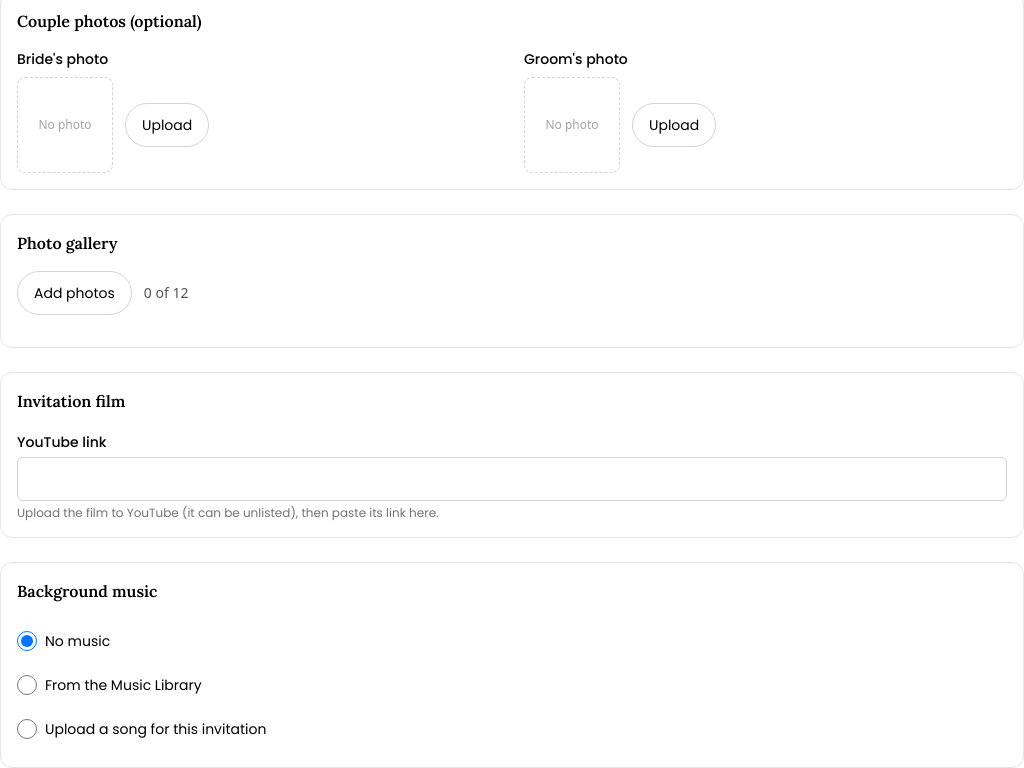
Test case: music › explains when the library is empty
(page scrolled)
Step 1. Click the radio button labelled "From the Music Library" → {"x": 27, "y": 685}, box top-left (17, 675), bottom-right (37, 695)
(page scrolled)
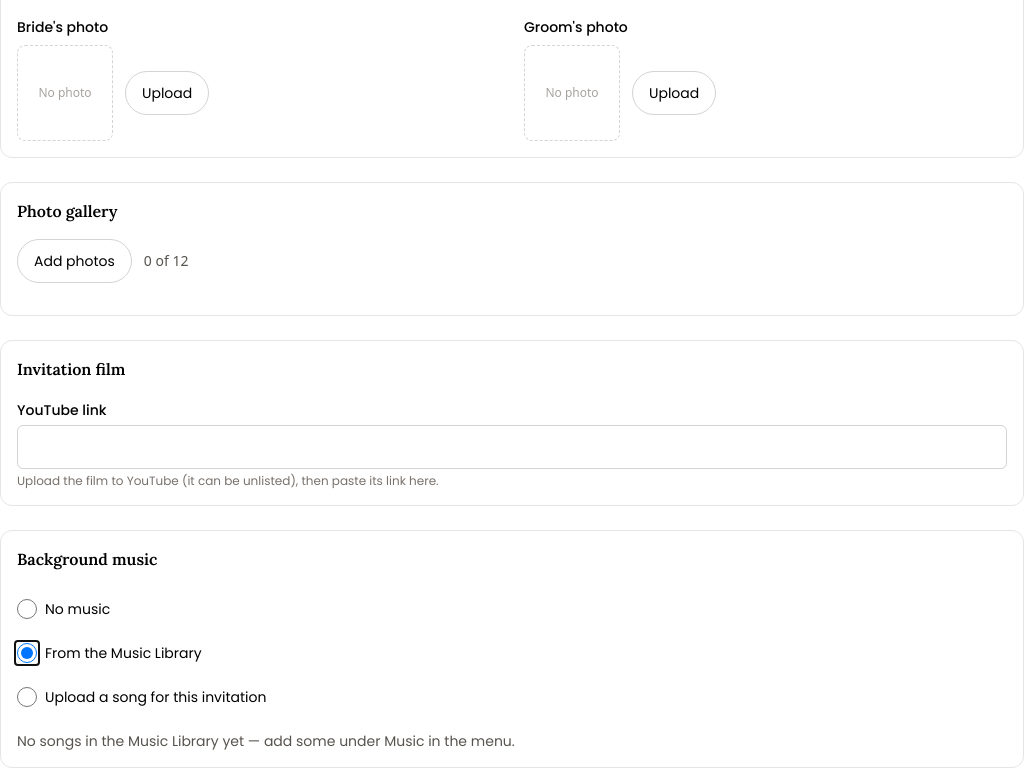
expect the text "No songs in the Music Library yet" is shown: met, box top-left (17, 731), bottom-right (515, 751)
